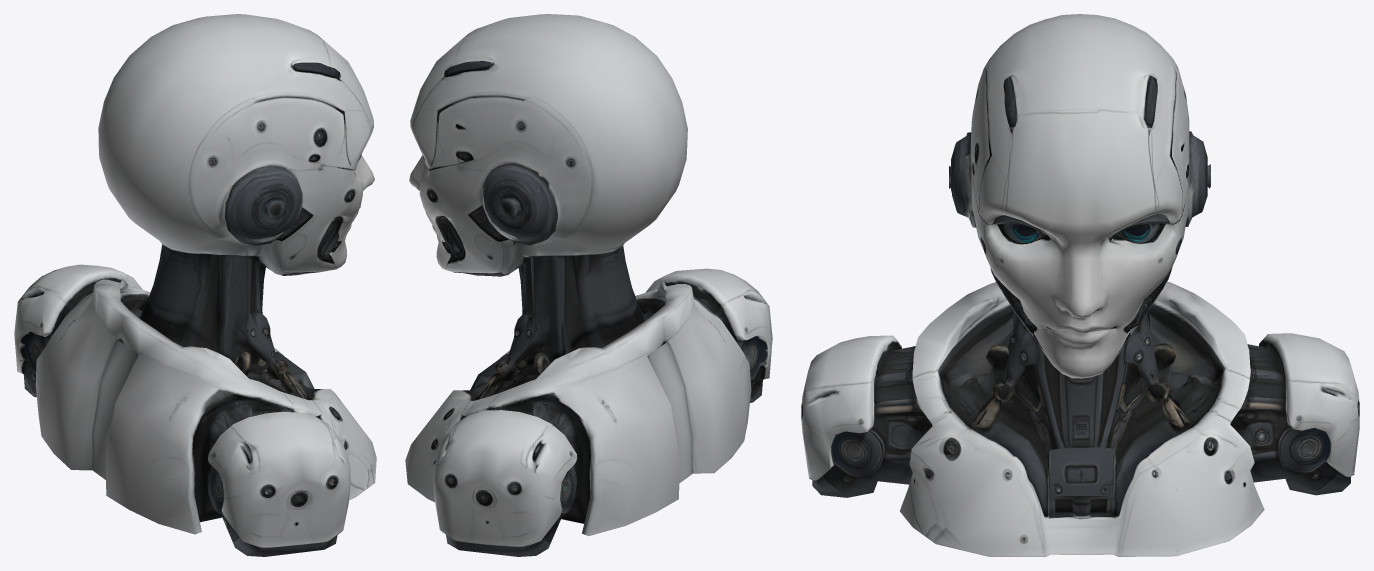
Rendered from robot_login_prepared.glb.
The picture shows the model from 3 angles, left to right: view 1: azimuth 30°, elevation 25°; view 2: azimuth 150°, elevation 25°; view 3: azimuth 270°, elevation 25°; orthographic projection. The views are drawn at different scales.
Visible parts, largest first — view 1: Mesh_Head, Mesh_Torso, Mesh_Neck; view 2: Mesh_Head, Mesh_Torso, Mesh_Neck; view 3: Mesh_Torso, Mesh_Head, Mesh_Neck.
Boxes of the visible parts, <box> form: Mesh_Head: <box>98,14,374,275</box>; Mesh_Torso: <box>14,264,376,556</box>; Mesh_Neck: <box>65,244,284,494</box>; Mesh_Head: <box>409,14,687,315</box>; Mesh_Torso: <box>405,268,772,556</box>; Mesh_Neck: <box>496,242,731,483</box>; Mesh_Torso: <box>801,306,1359,556</box>; Mesh_Head: <box>949,14,1210,378</box>; Mesh_Neck: <box>930,281,1227,409</box>.
Size of the model in its own units: 0.6426 by 0.9238 by 0.998.
1 material, 1 textured.
